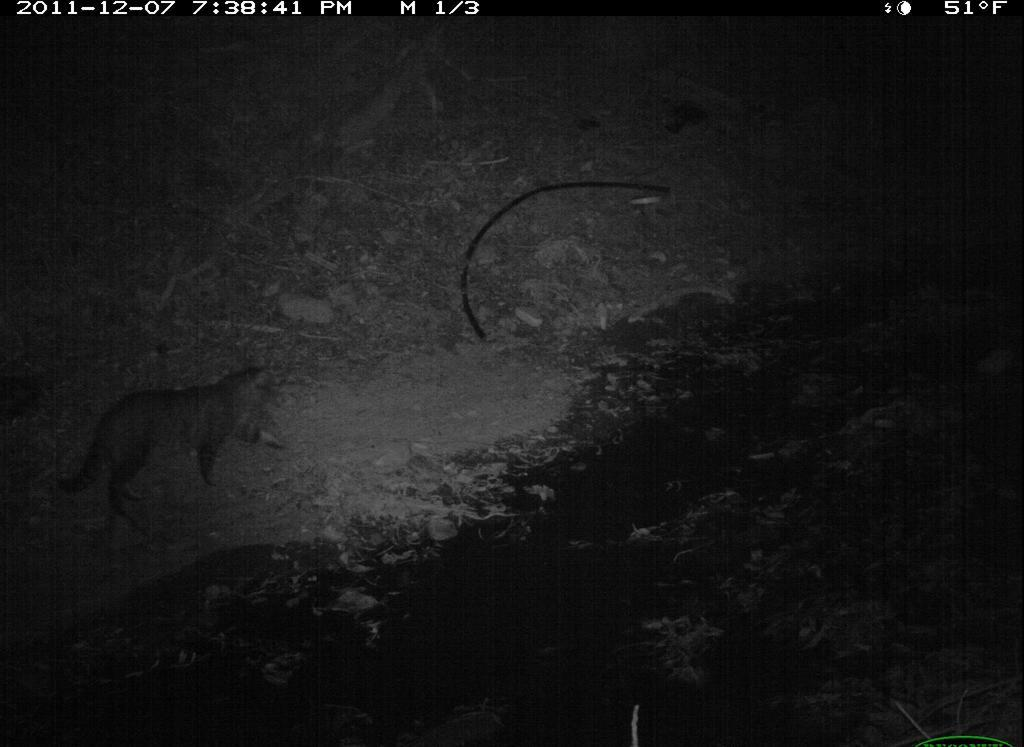cat: (48, 353, 306, 534)
